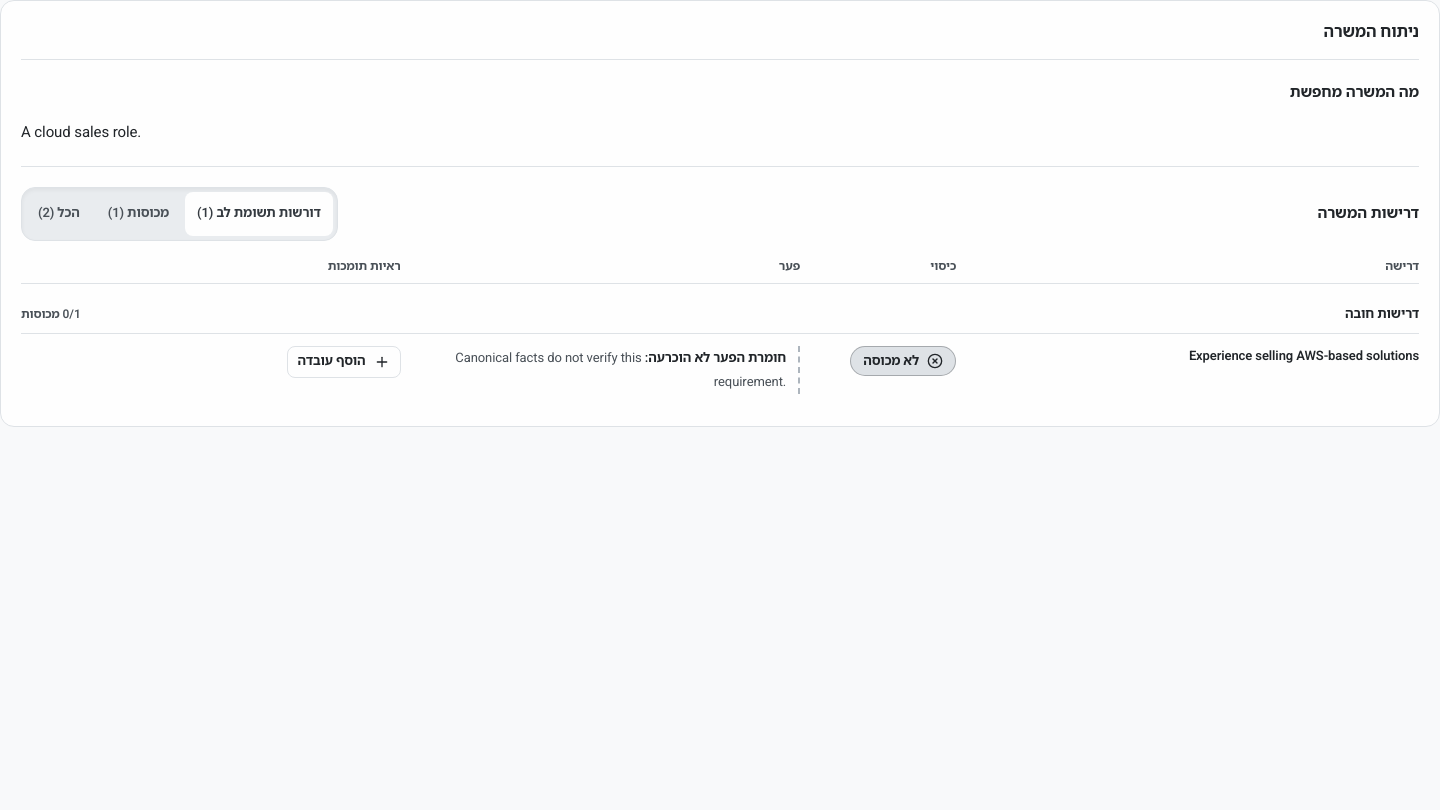
Test case: AnalysisPanel › offers a fact for a requirement nothing supports, with the requirement as a hint only
What coordinates should you click on to do the following:
click the button with aria-label "הוסף עובדה לדרישה: Experience selling AWS-based solutions"
I would click on:
 (344, 362)
Its box is [286,346,400,378].
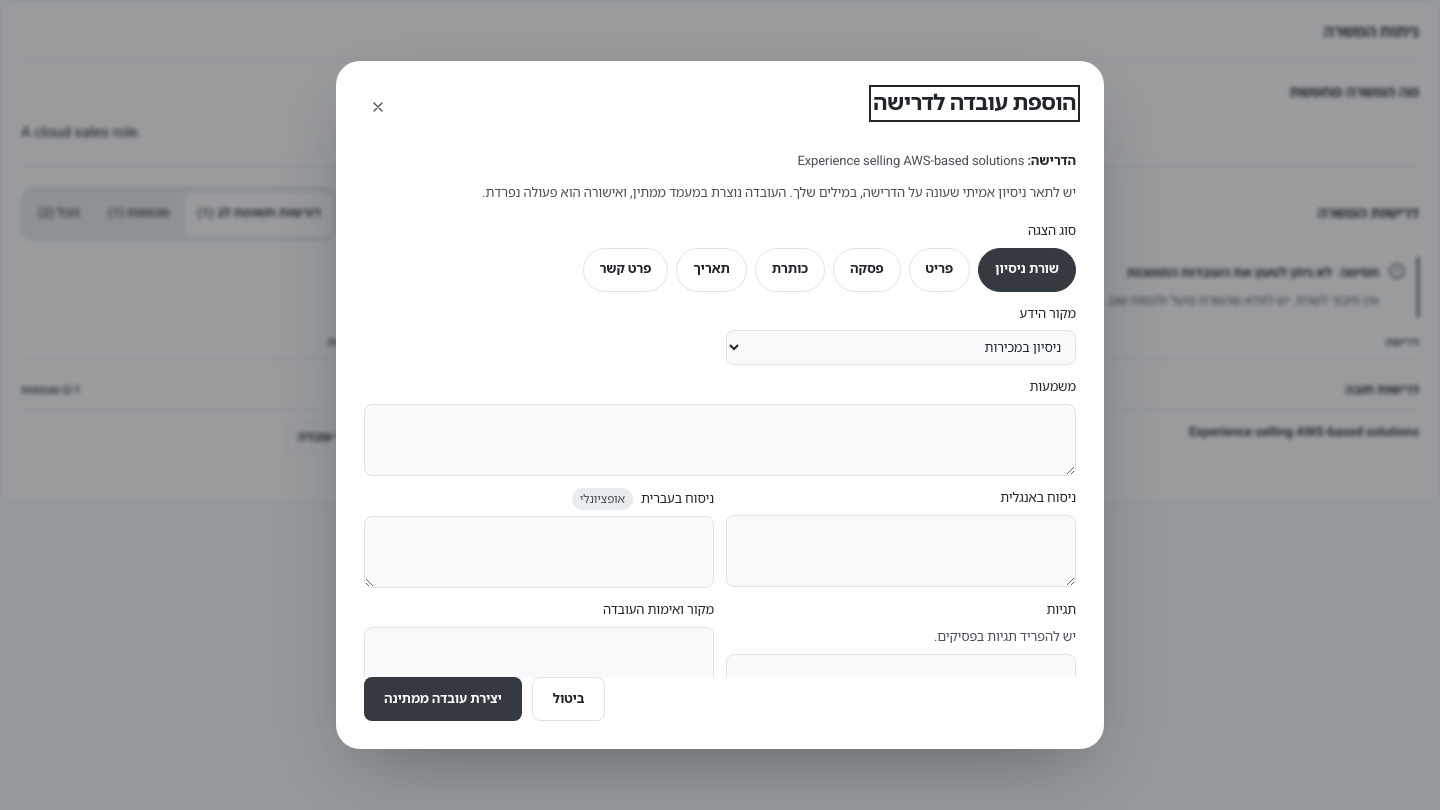
Result: the text "Experience selling AWS-based solutions" is shown at [798,151,1024,170]
Result: the text box labelled "משמעות" is empty at [364,404,1076,476]
